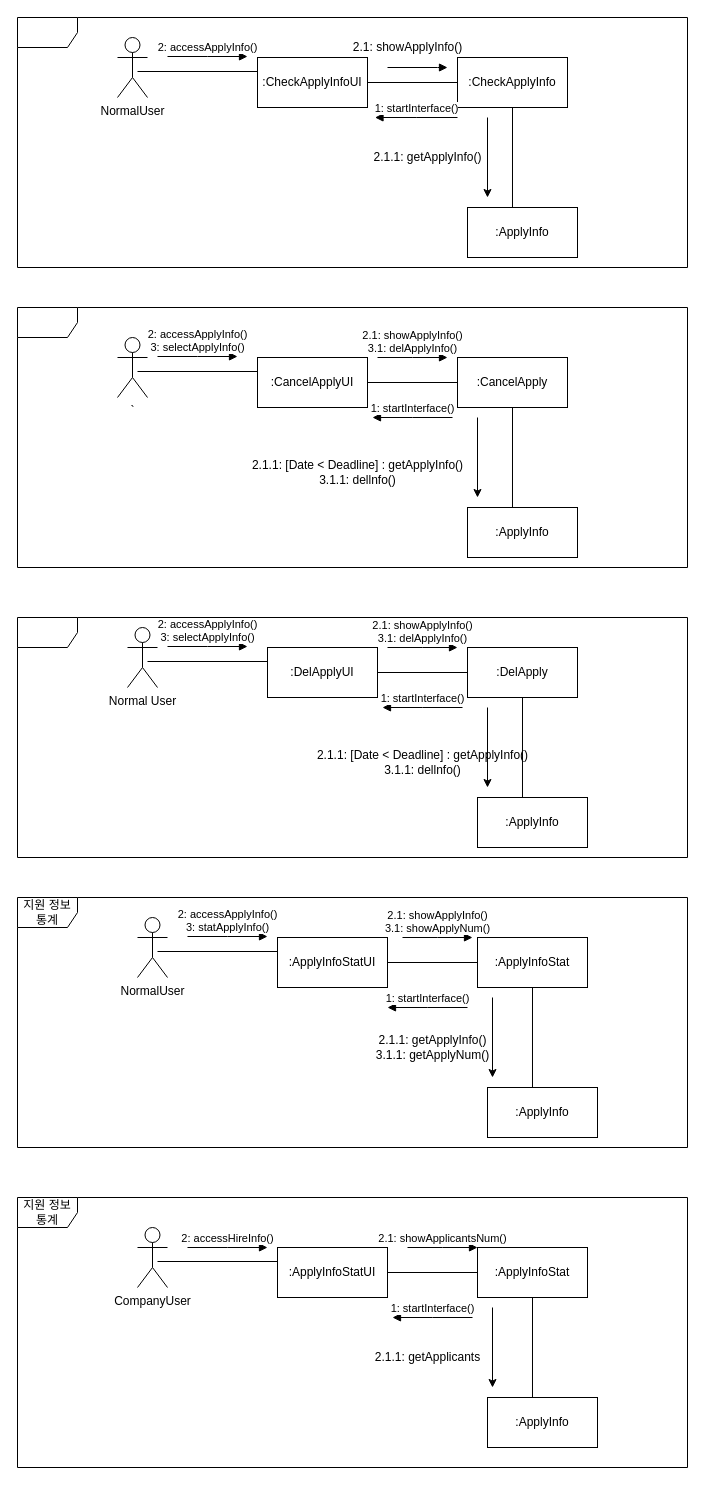
Image size: 705x1485. Some labels were removed from this diagram. The centre of each missing label's shape, as x and y in pixels:
"지원 정보 조회" belongs at pixel 352 142.
"지원 취소" belongs at pixel 352 437.
"지원정보 삭제" belongs at pixel 352 737.
